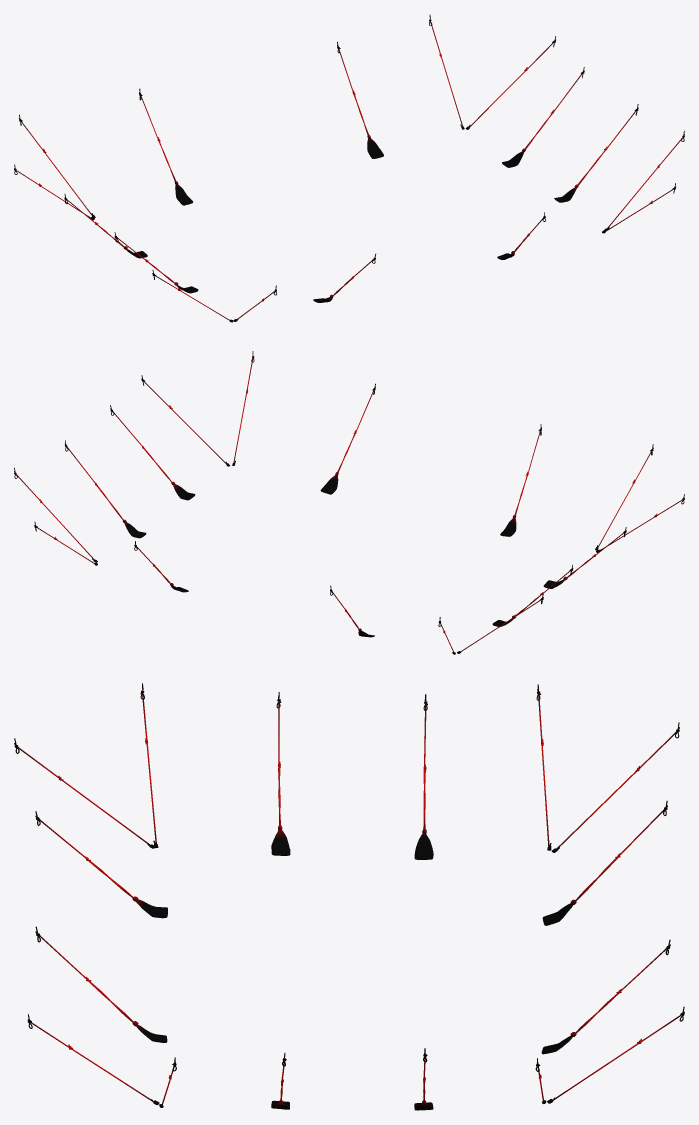
The model's file is Tent_09_Mesh.fbx.
3 renders of one model, top to bottom at view 1: azimuth 30°, elevation 25°; view 2: azimuth 150°, elevation 25°; view 3: azimuth 270°, elevation 25°, orthographic. The views are drawn at different scales.
Visible parts, largest first — view 1: Tent_09f_LOD0, Tent_09d_LOD0, Tent_09h_LOD0; view 2: Tent_09b_LOD0, Tent_09d_LOD0, Tent_09h_LOD0; view 3: Tent_09h_LOD0, Tent_09b_LOD0, Tent_09f_LOD0, Tent_09g_LOD0, Tent_09a_LOD0.
Part boxes in pixels (box(x1,y1,x2,y2)): Tent_09f_LOD0: box(139, 42, 383, 205); Tent_09d_LOD0: box(502, 67, 638, 202); Tent_09h_LOD0: box(64, 194, 198, 293); Tent_09b_LOD0: box(320, 383, 541, 536); Tent_09d_LOD0: box(65, 405, 195, 538); Tent_09h_LOD0: box(492, 527, 626, 626); Tent_09h_LOD0: box(271, 692, 433, 859); Tent_09b_LOD0: box(35, 811, 167, 1042); Tent_09f_LOD0: box(541, 800, 670, 1054); Tent_09g_LOD0: box(536, 684, 679, 852); Tent_09a_LOD0: box(14, 683, 158, 848).
Bounding box in the file's own units: 0.1823 × 0.1389 × 0.0271.
